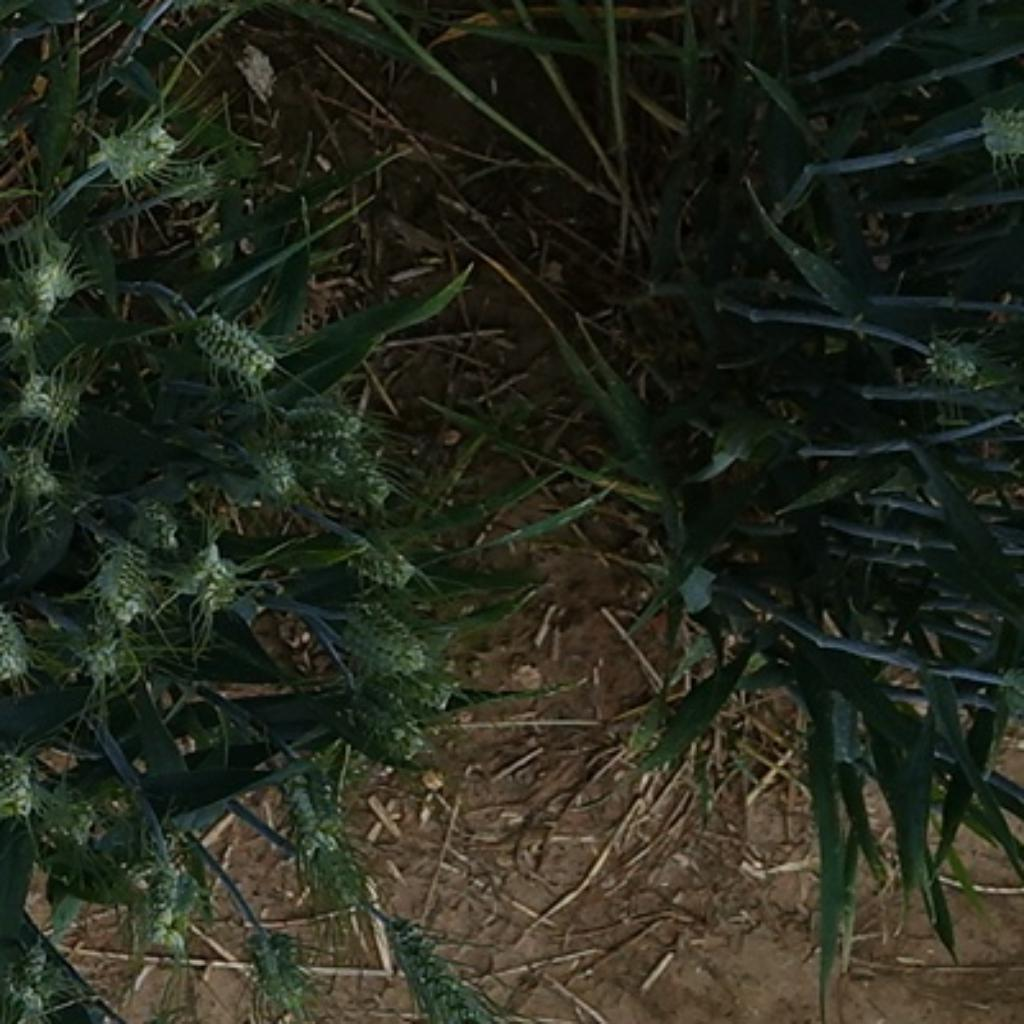0-0: (258, 739, 384, 893), (327, 593, 448, 742), (391, 906, 504, 1018), (34, 769, 141, 867), (181, 299, 281, 384), (240, 913, 322, 1008), (87, 104, 181, 184), (0, 926, 79, 1011), (309, 435, 396, 512), (138, 857, 207, 952), (88, 539, 163, 626), (60, 631, 138, 705), (12, 360, 94, 430), (171, 540, 245, 611), (15, 251, 88, 321), (909, 338, 989, 400), (345, 527, 422, 588), (0, 444, 67, 511), (271, 396, 371, 440), (143, 158, 226, 208), (126, 491, 185, 557), (0, 279, 51, 353), (0, 742, 48, 819), (253, 435, 304, 504), (975, 100, 1024, 166), (0, 588, 33, 678)
